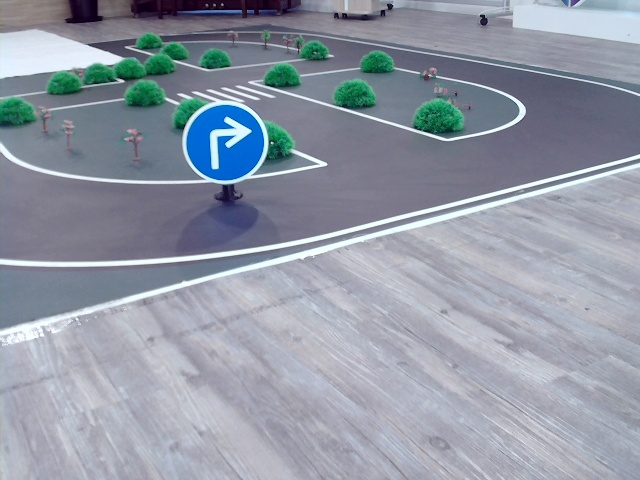turn_right: (204, 117, 252, 169)
